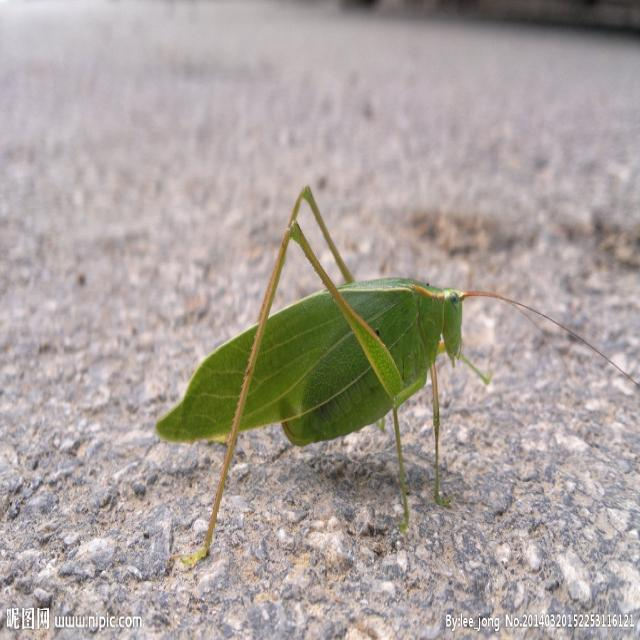ZhaMeng: (153, 178, 497, 519)
